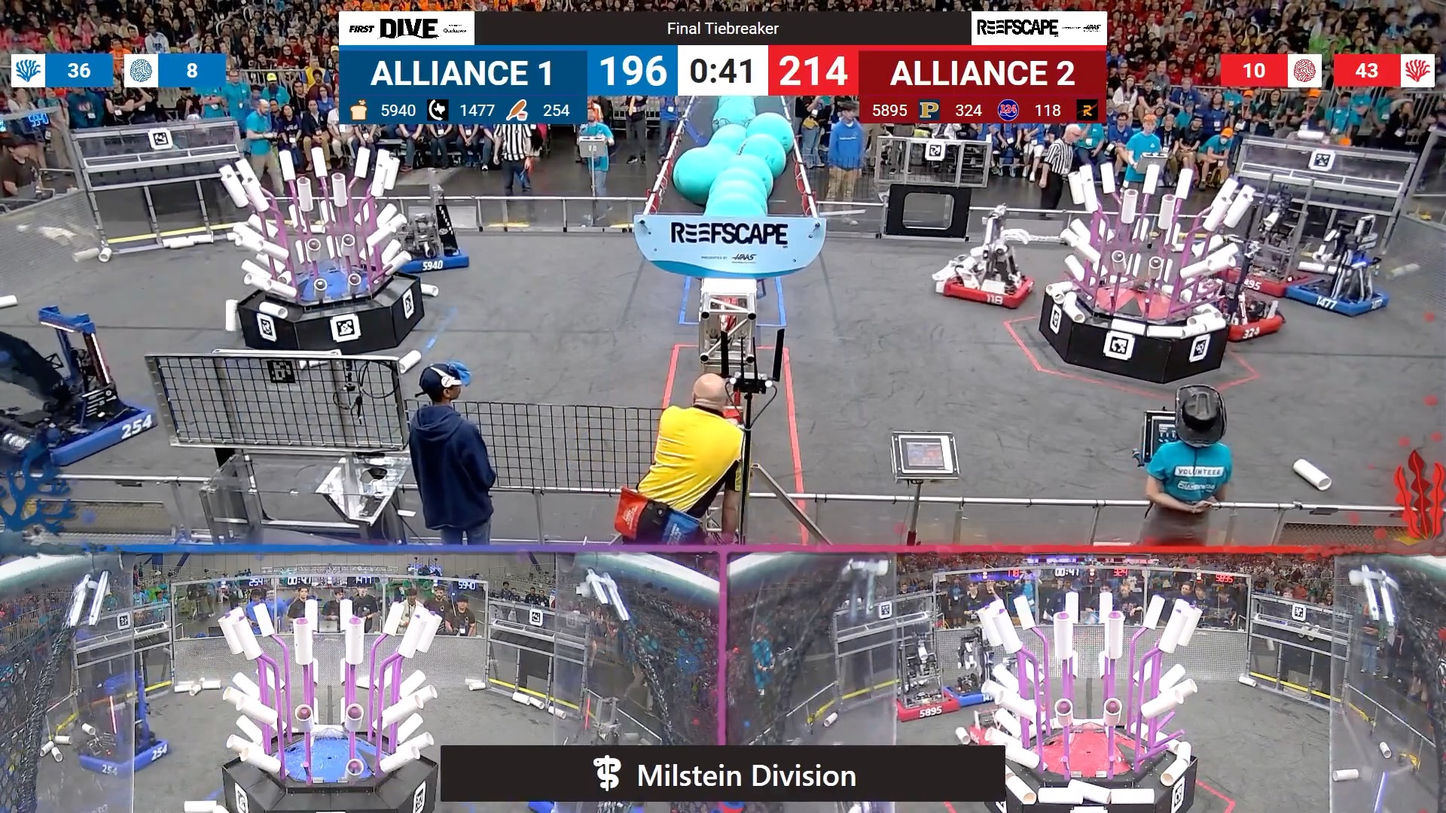bumpers: (0, 399, 157, 474), (73, 733, 181, 782), (937, 267, 1042, 316), (1279, 282, 1394, 324), (373, 239, 471, 279), (1213, 302, 1296, 345), (950, 672, 1028, 710), (888, 688, 968, 724)
